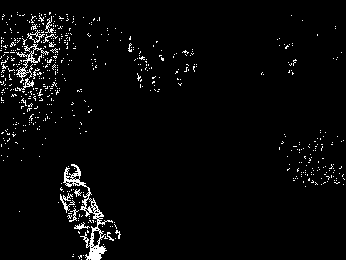person: (55, 161, 117, 260)
